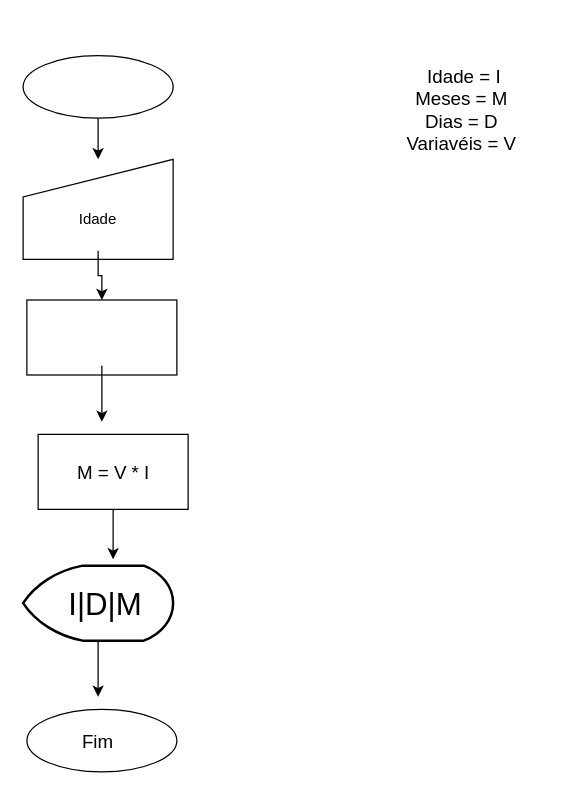
The diagram is 583 pixels wide and 794 high, and some of its shapes have lost their labels. Each missing label, with the centre of its shape:
"D = V * I" goes at point 101,337.
"Inicio" goes at point 97,86.
